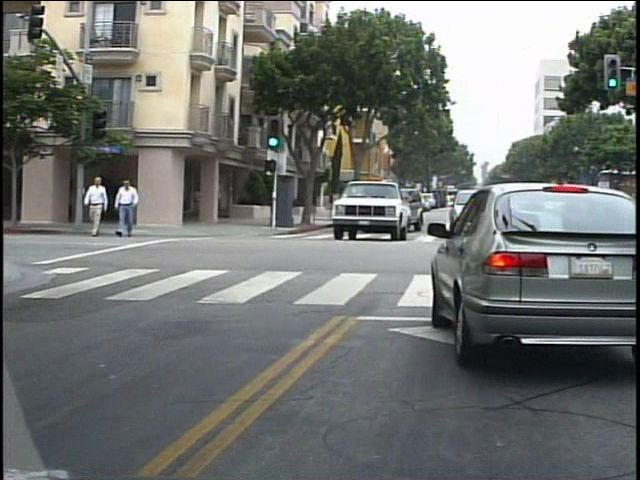person: (87, 170, 117, 241), (121, 175, 149, 242)
